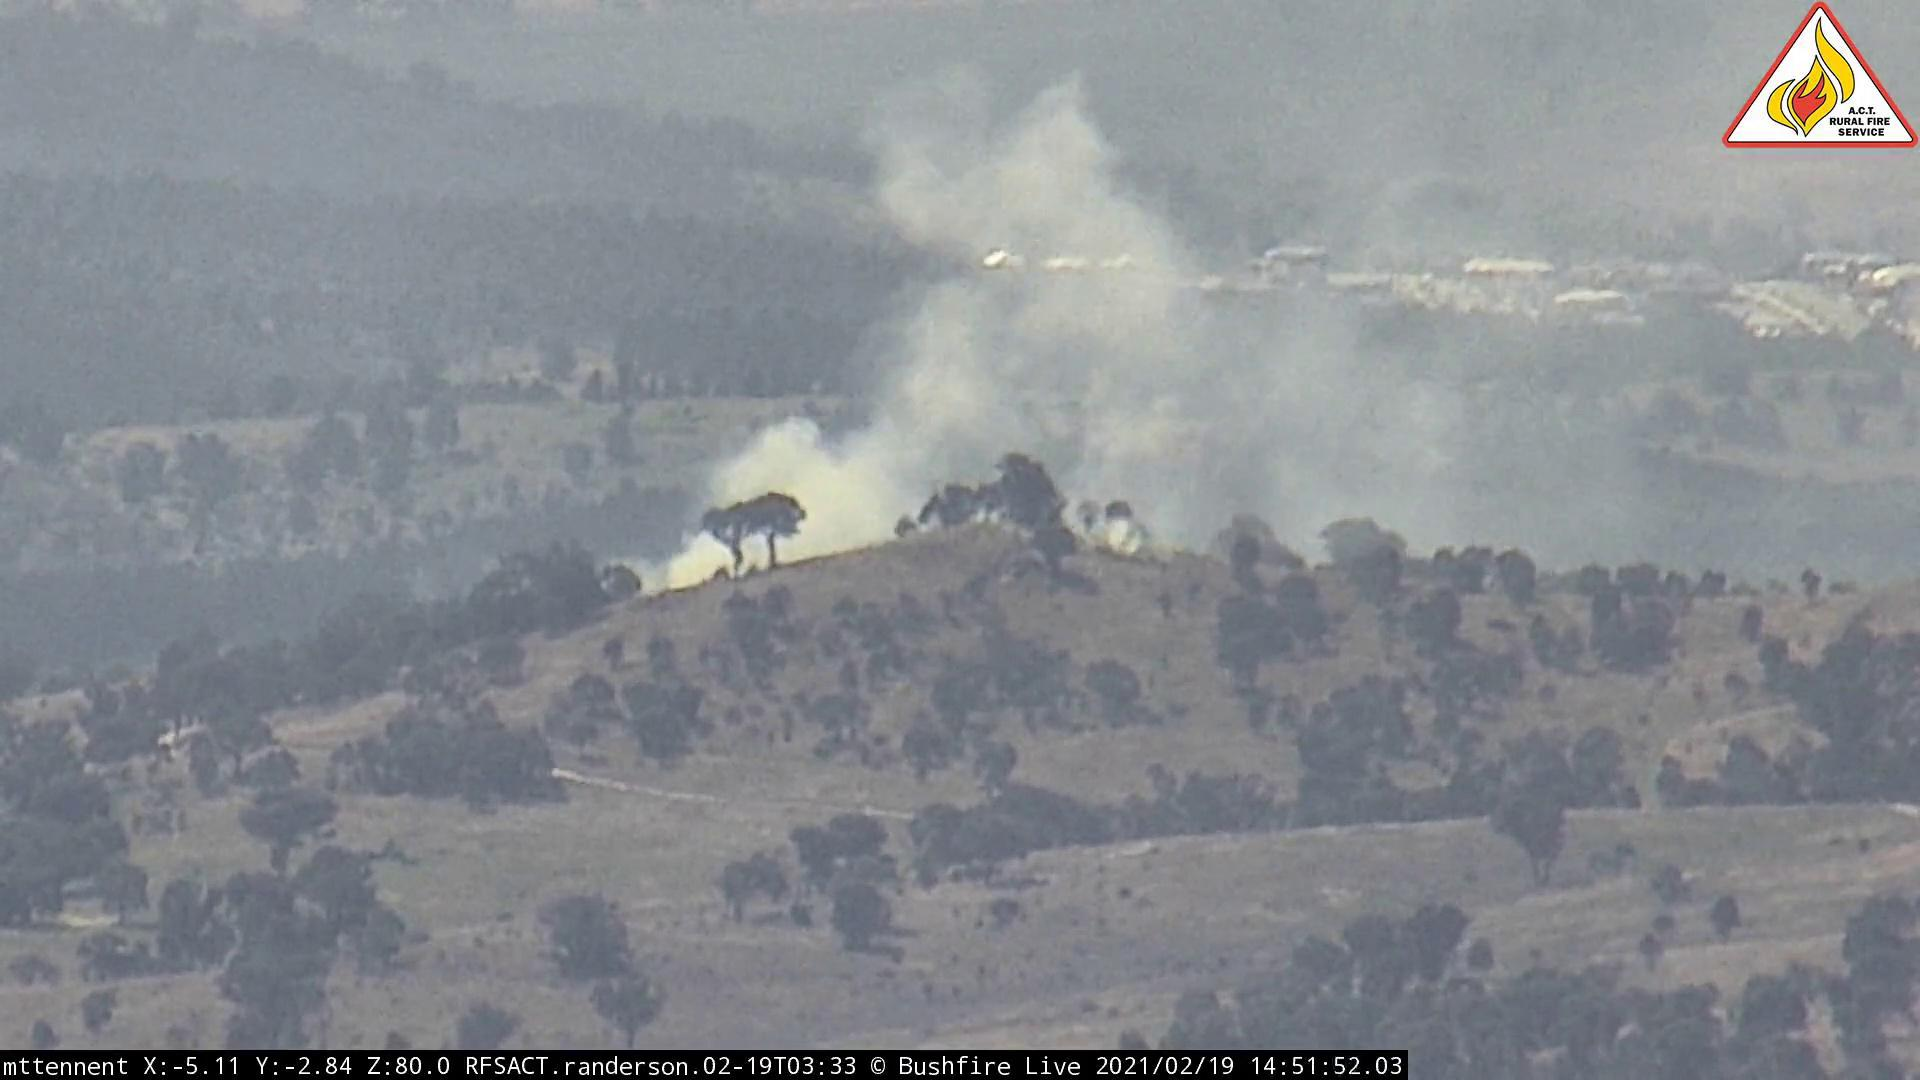Smoke: (636, 59, 1522, 618)
